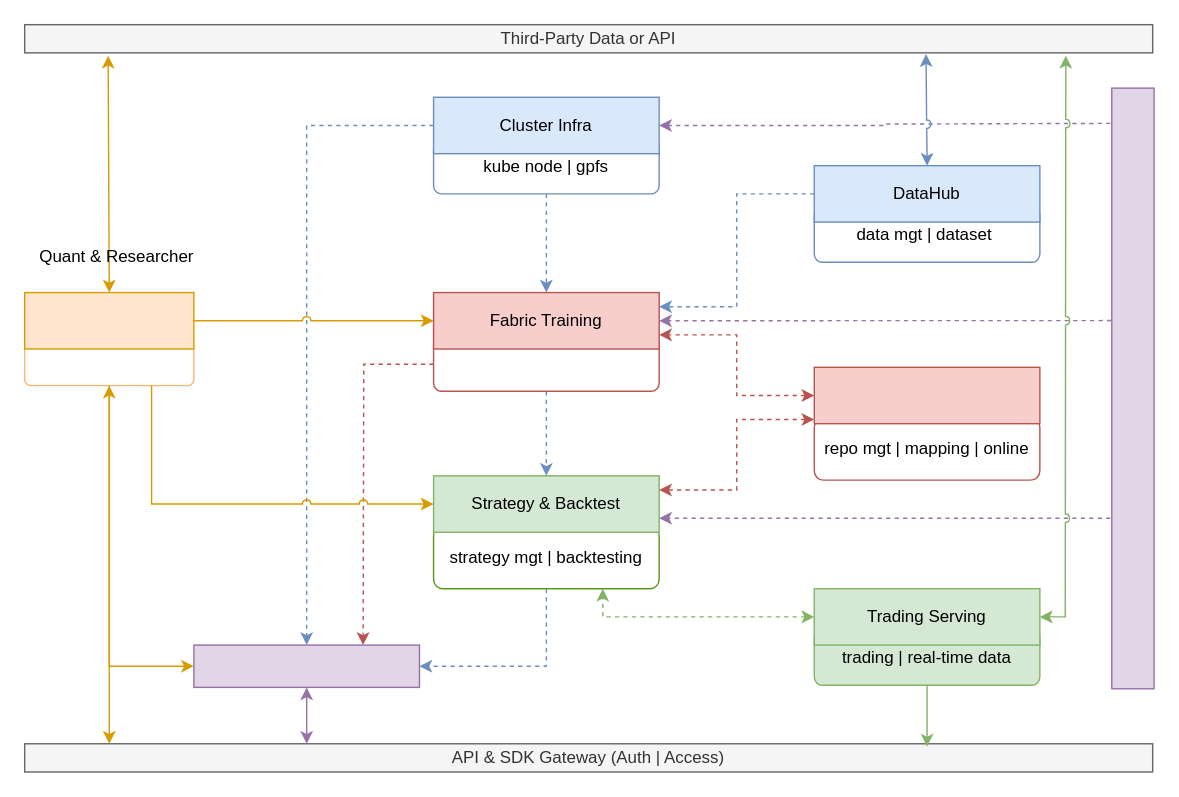
The diagram is 1179 pixels wide and 797 high, and some of its shapes have lost their labels. The box of each missing label's shape, as (x1, y1, x2, y2) in pixels:
Clinic(monitoring) metrics: (1110, 87, 1154, 689)
devc | notebooks: (23, 342, 194, 386)
Invest & Research: (23, 291, 194, 349)
Meta & Audit: (192, 644, 419, 687)
Model Serving: (813, 366, 1040, 424)
tasks | crons | flows: (432, 336, 659, 391)
